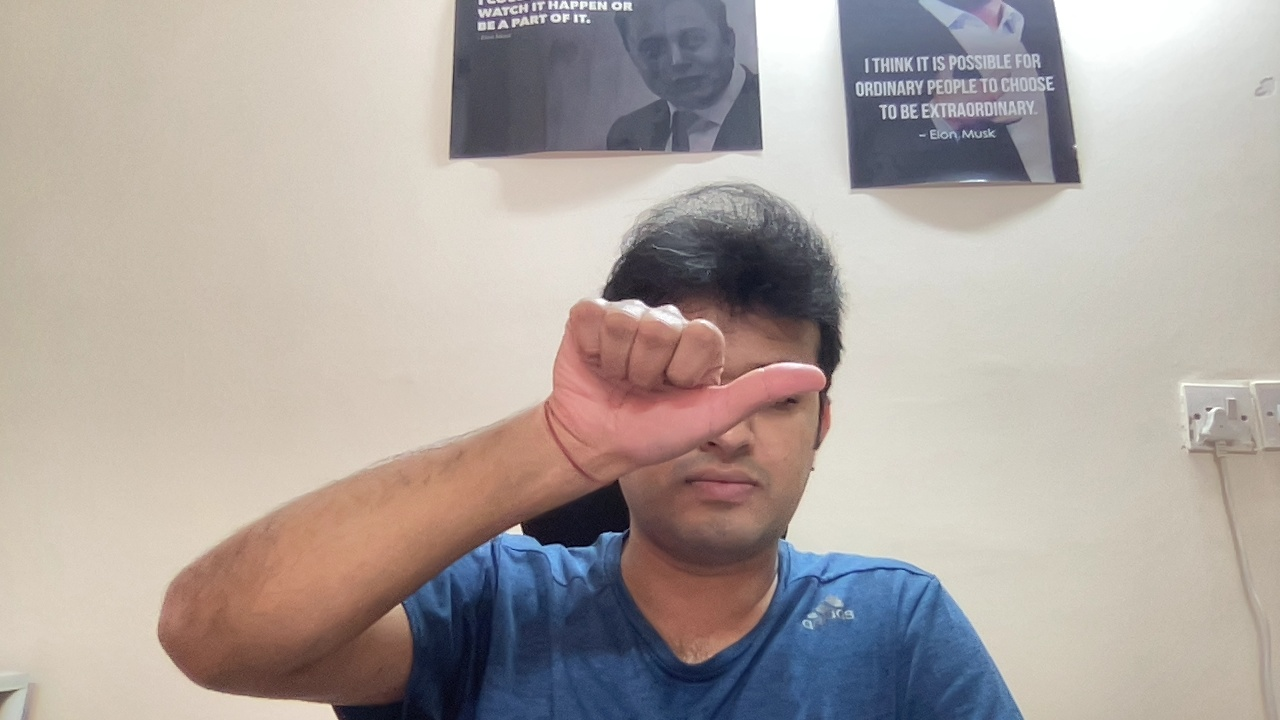left: (546, 289, 830, 485)
